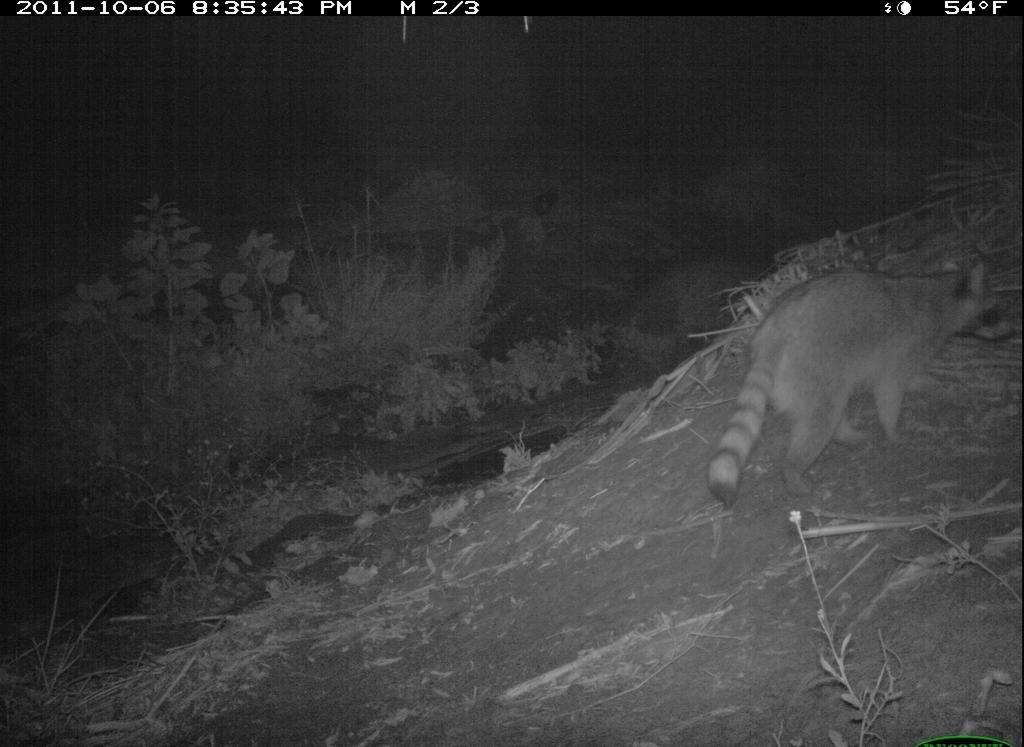raccoon: (701, 240, 1013, 510)
